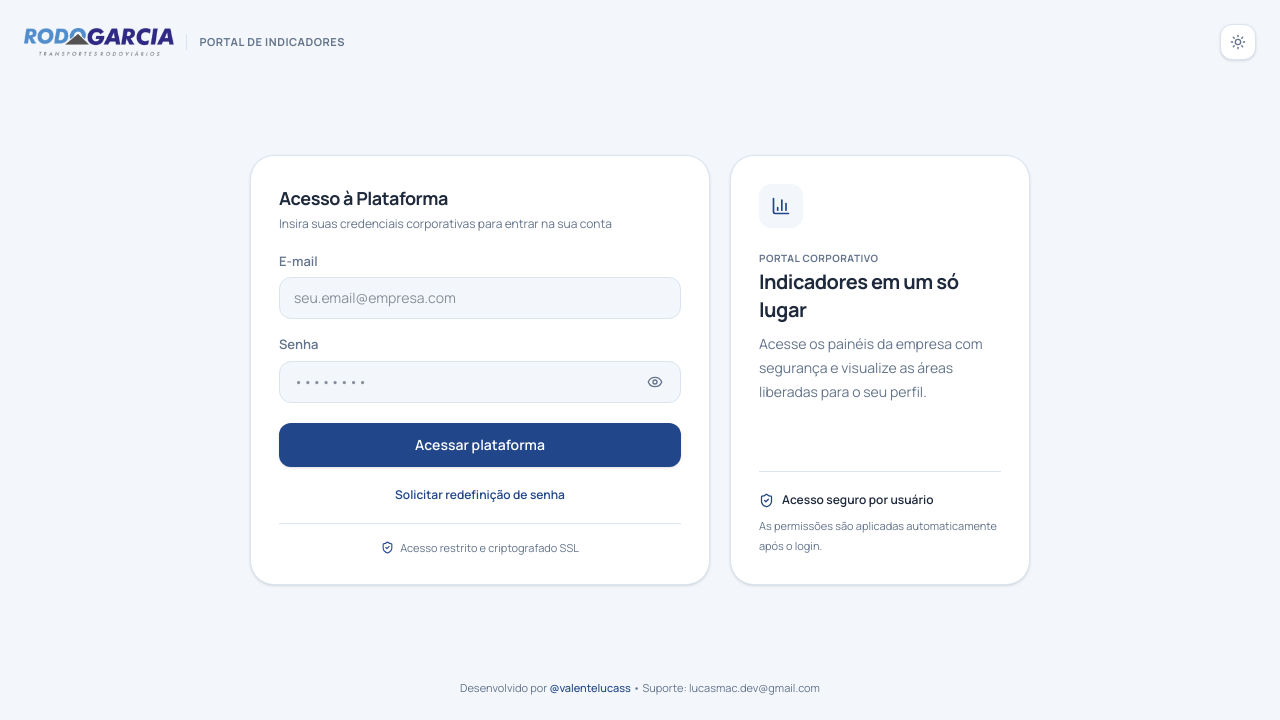
Scenario: LoginPage › exibe a troca de senha obrigatoria ao receber o contrato 428
Type "usuario@rodogarcia.com.br" into the field labelled "E-mail" at (480, 298), box left=279, top=277, right=681, bottom=319
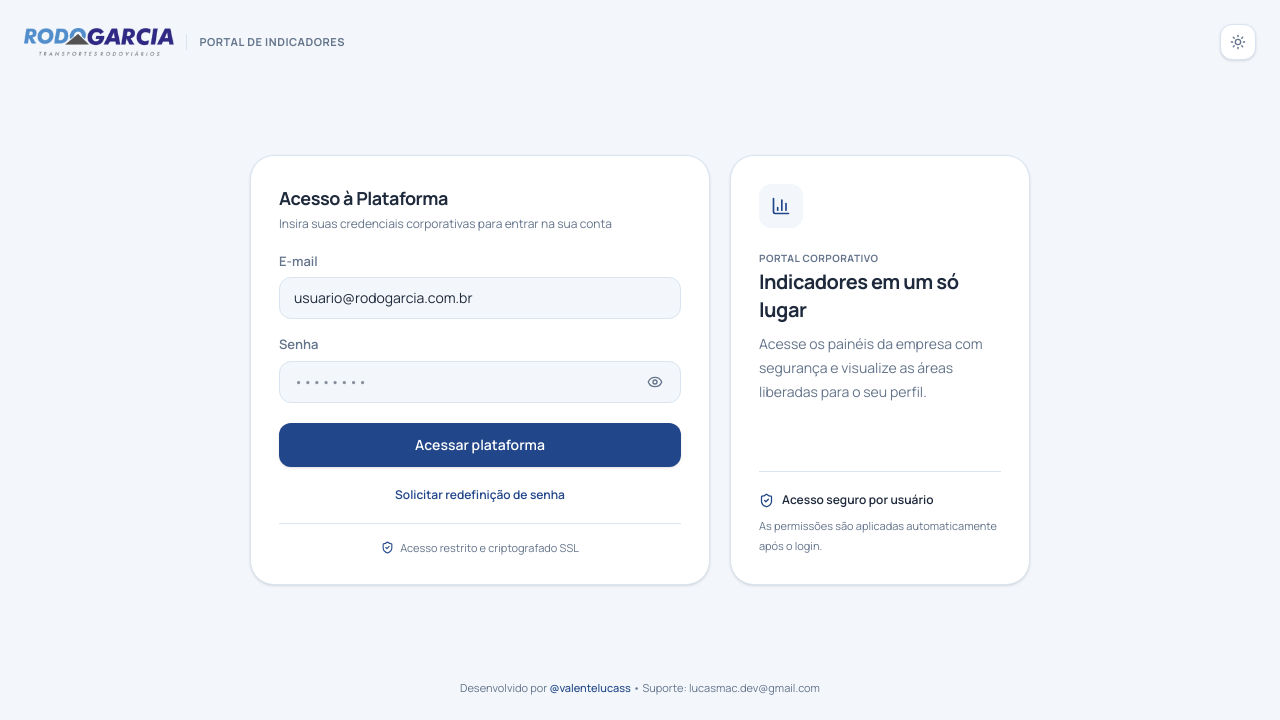
Type "SenhaTemporaria@12" into the password field labelled "Senha" at (480, 382), box left=279, top=360, right=681, bottom=402
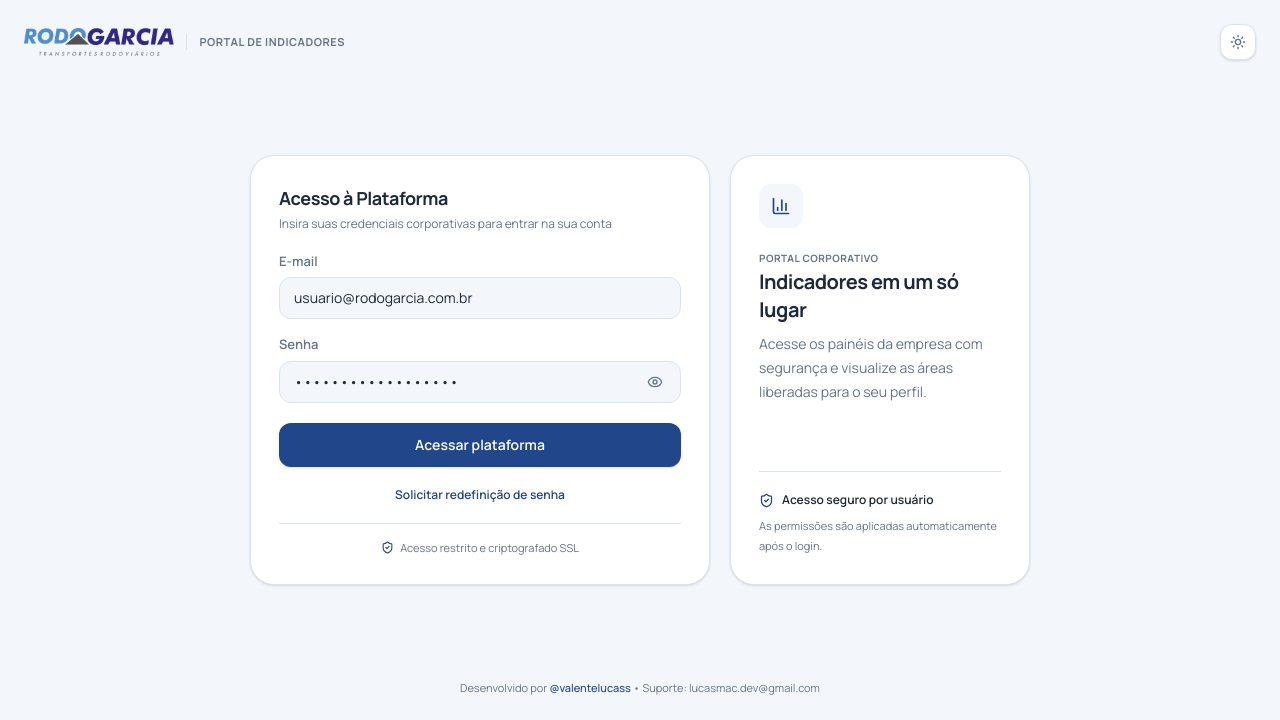
Click the button "Acessar plataforma" at (480, 444), box left=279, top=422, right=681, bottom=466
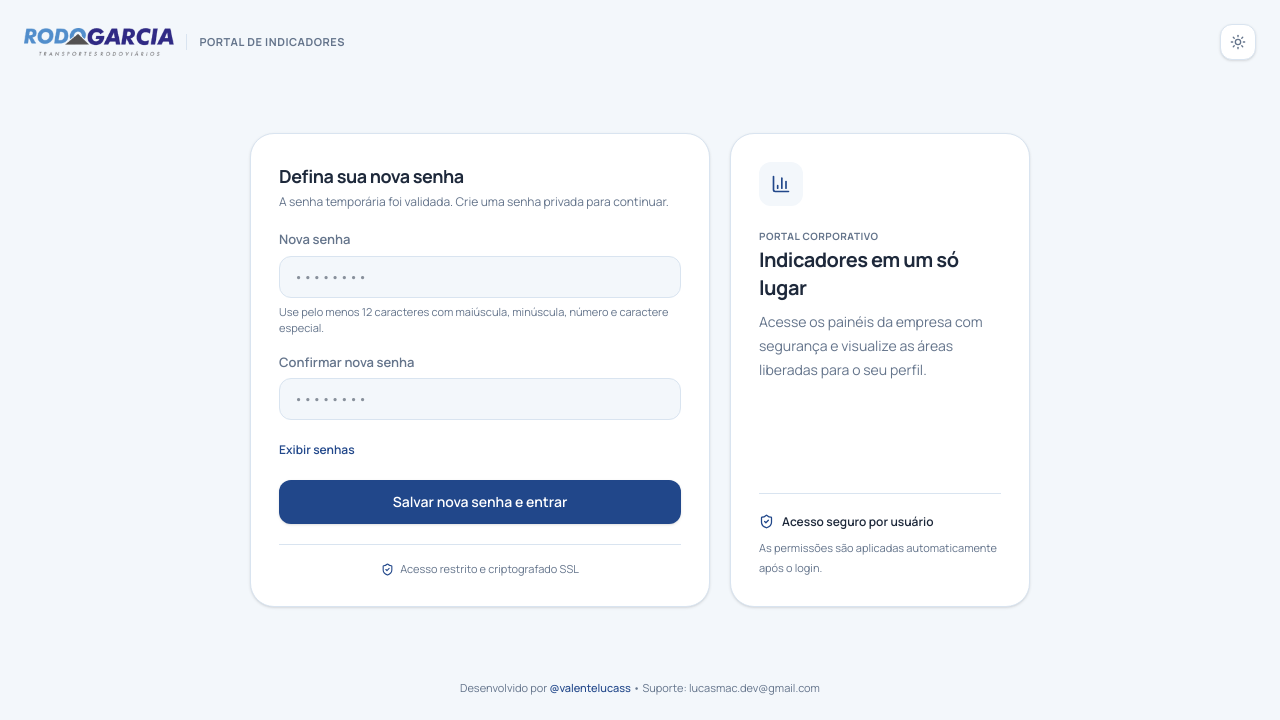
Expected: the heading "Defina sua nova senha" is shown, left=279, top=164, right=464, bottom=188
